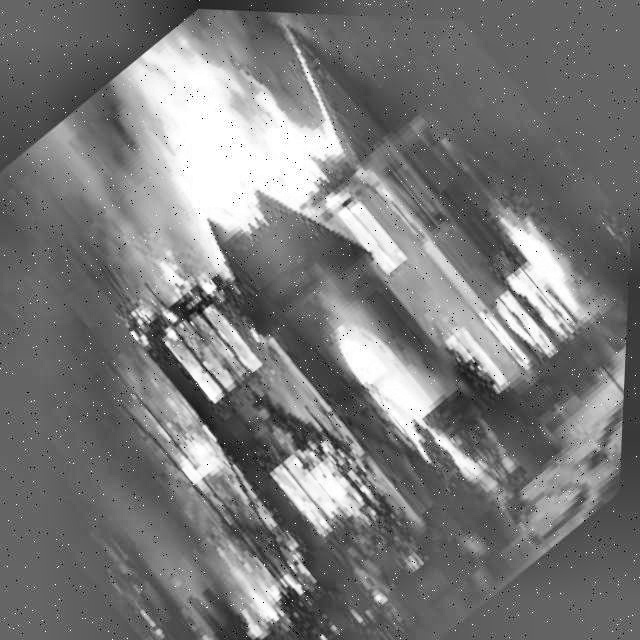Fire: (74, 3, 353, 278), (463, 215, 621, 376)
Smoke: (2, 78, 259, 342)
